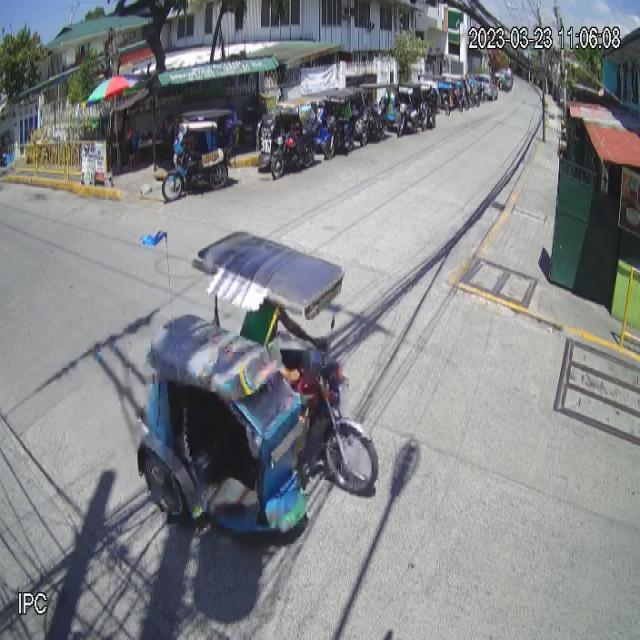Tricycle: (136, 230, 378, 537)
